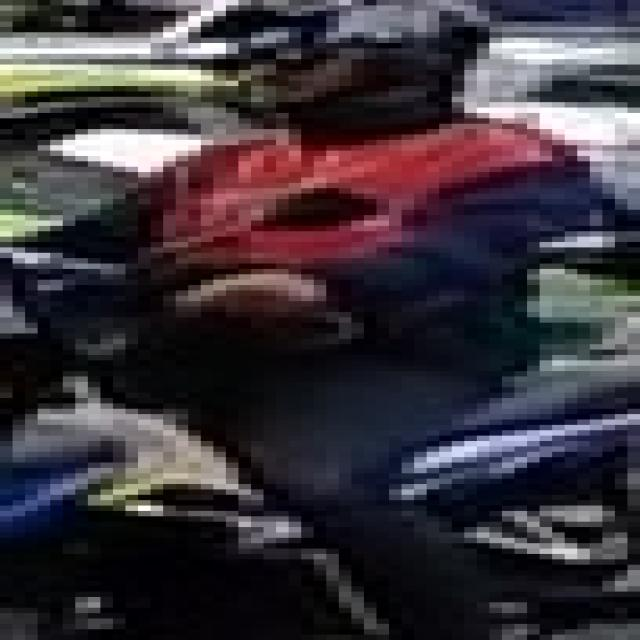helmet: (226, 0, 489, 129)
